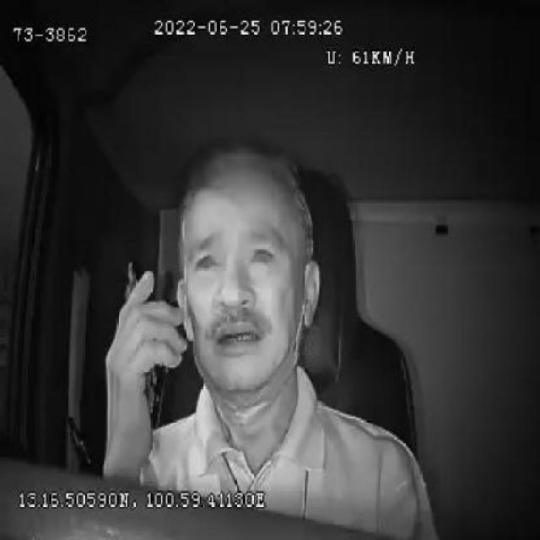phone: (122, 255, 167, 432)
